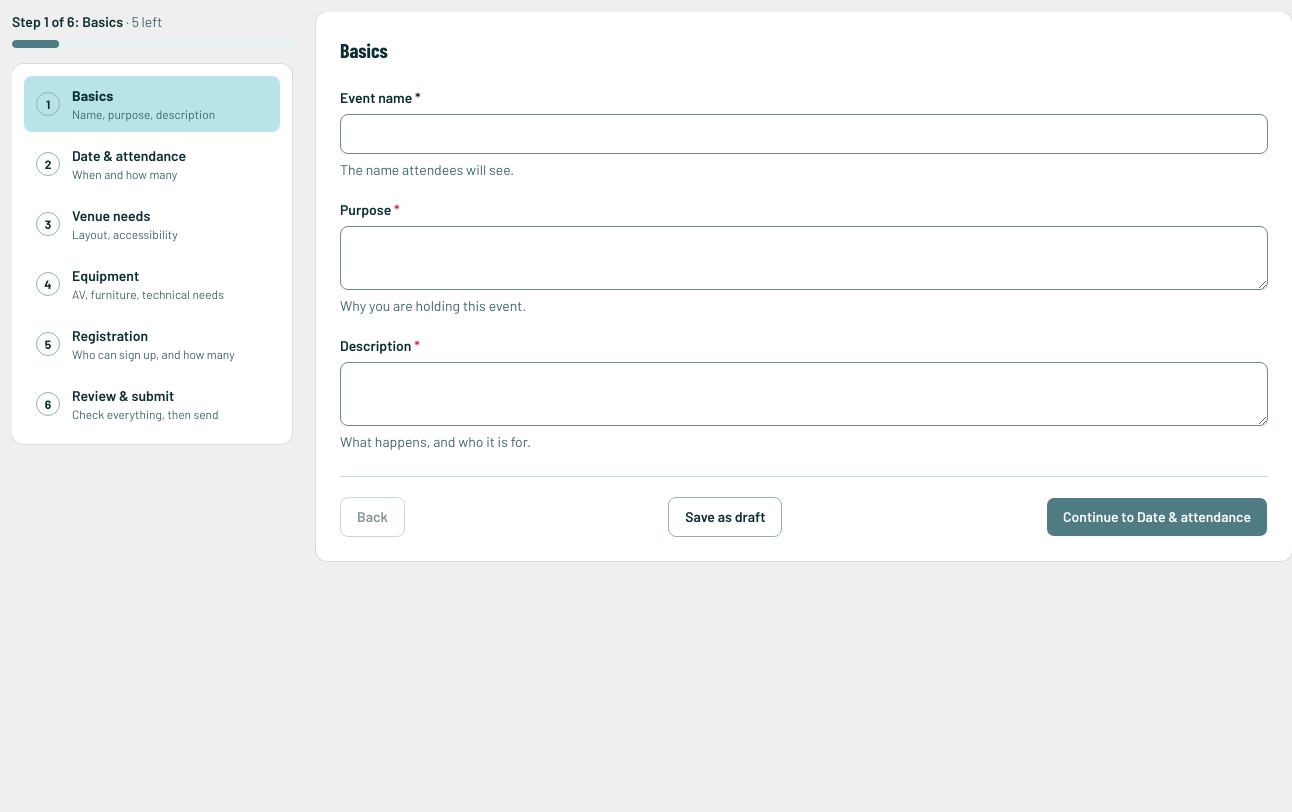
Test: SCRUM-53/AC1 Save as draft button › sends what has been typed so far and tells the organiser the draft is saved
In the field labelled "Event name *": (804, 134) 340,114 -> 1268,154, type "Half-planned summit"
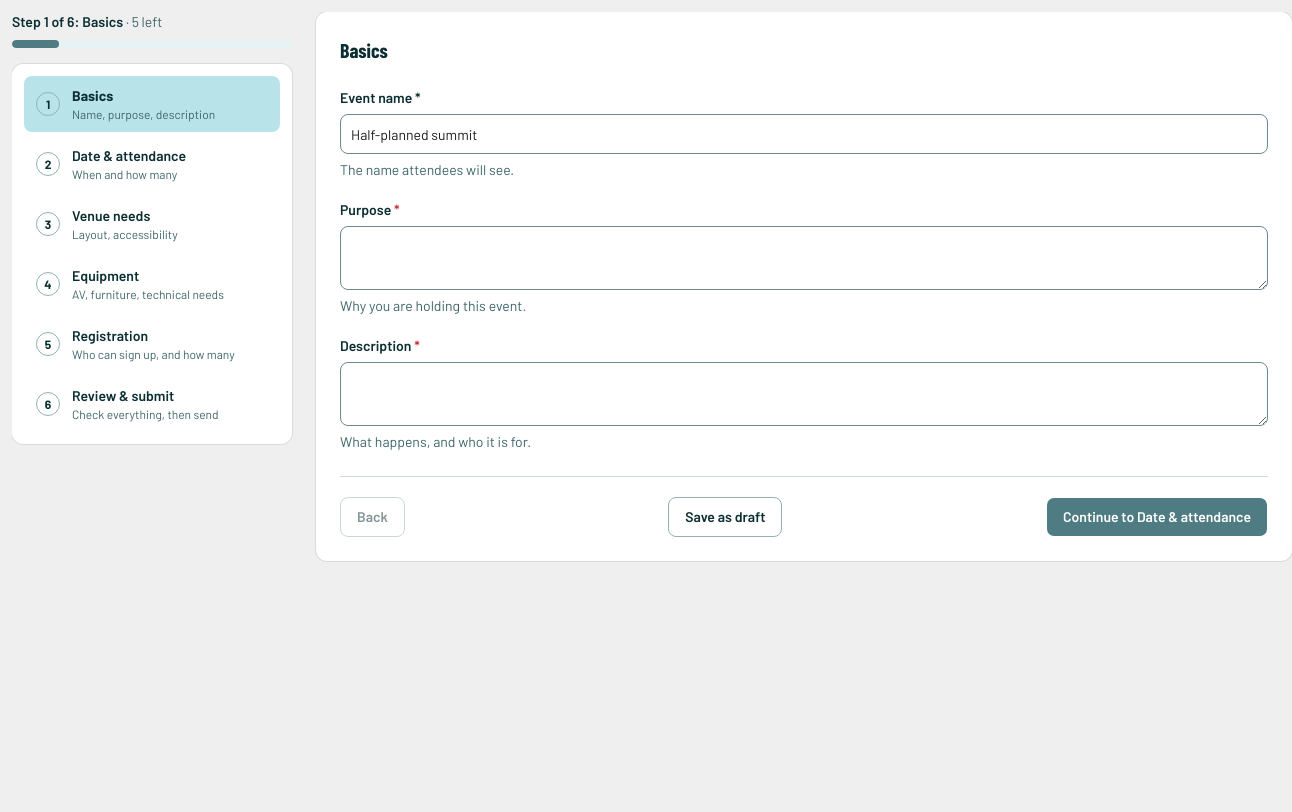
Click the button "Save as draft": click(725, 517) 668,497 -> 782,537
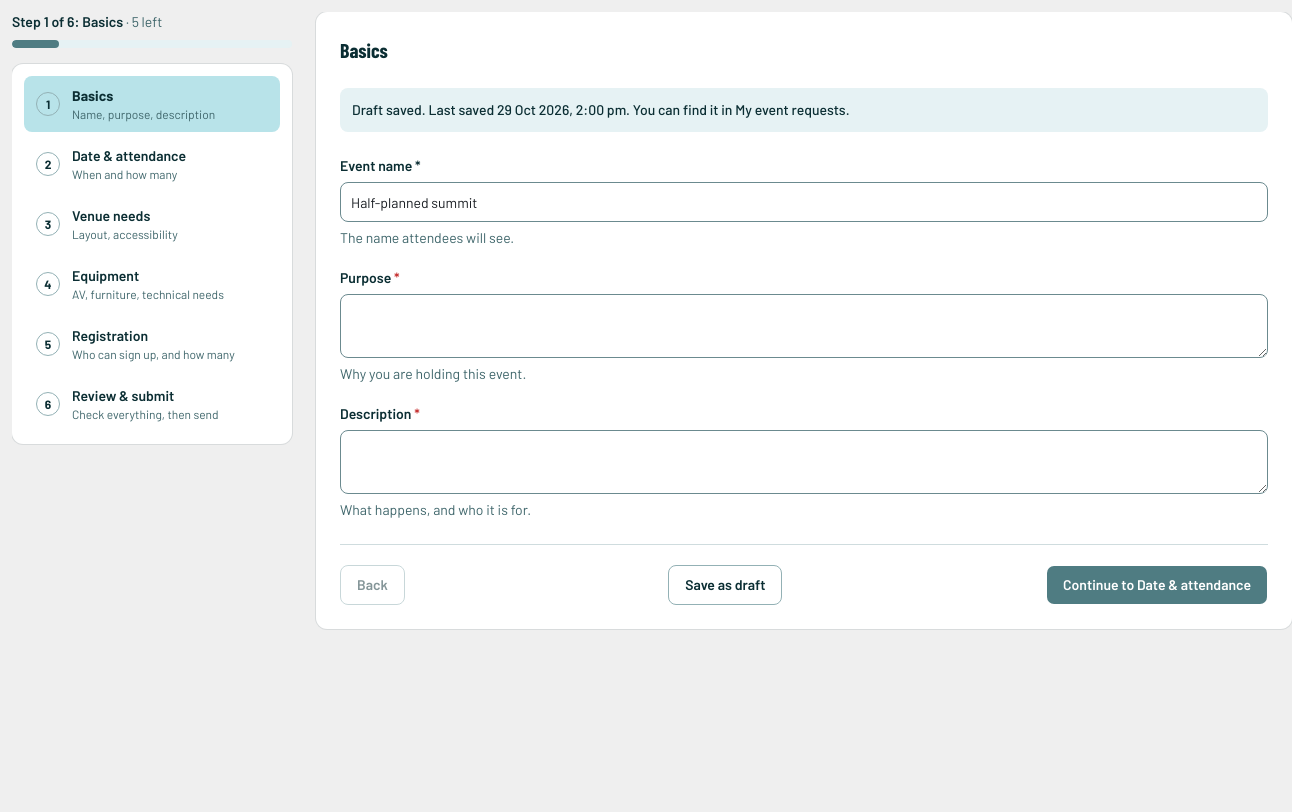
Check: the message shows "Draft saved", box 352,101 -> 850,118
